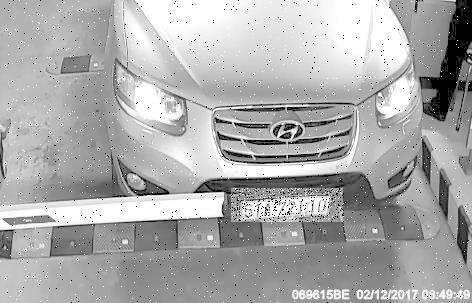License-plate: (233, 189, 346, 223)
